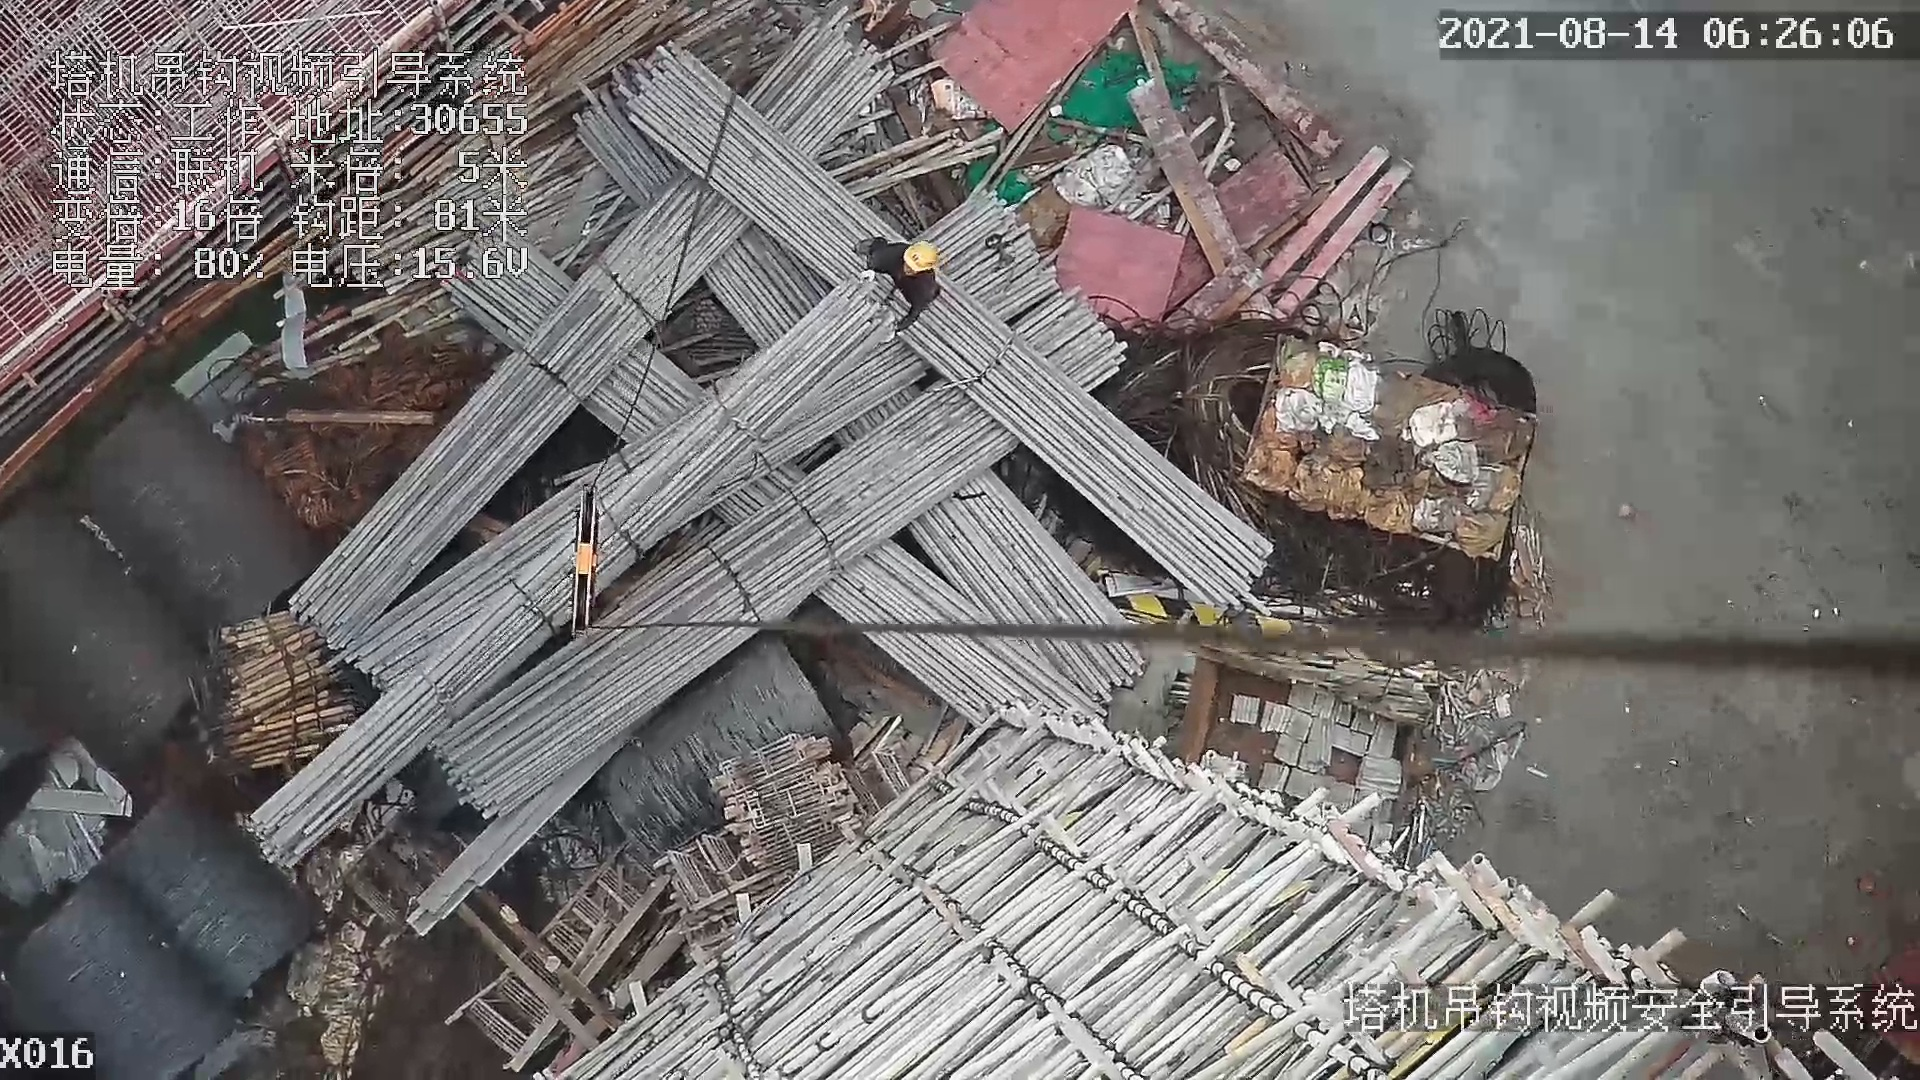helmet: (899, 234, 934, 274)
hook: (568, 480, 608, 640)
person: (858, 233, 947, 344)
